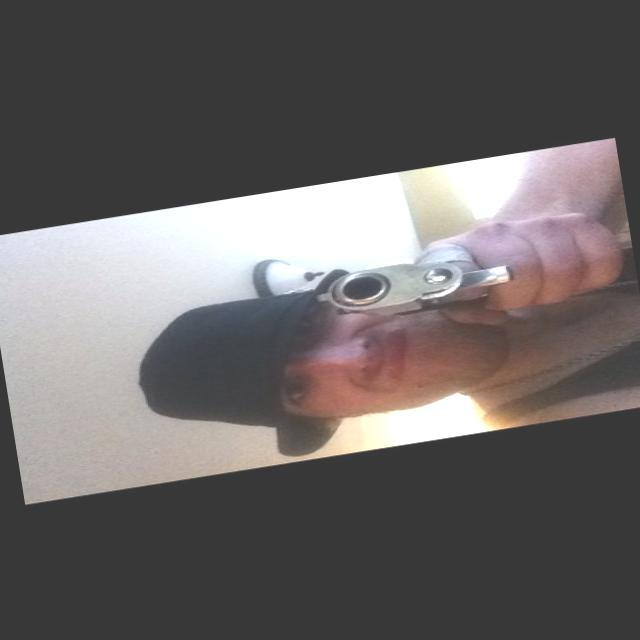handgun: (310, 244, 524, 334)
